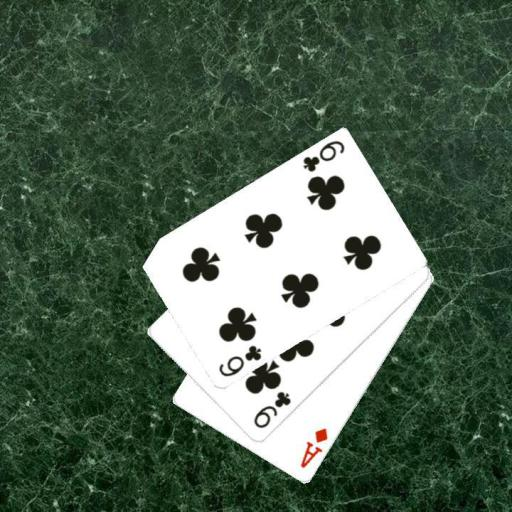6C: (215, 342, 263, 379), (300, 137, 347, 174)
9C: (250, 388, 293, 431)
AD: (296, 425, 330, 470)
